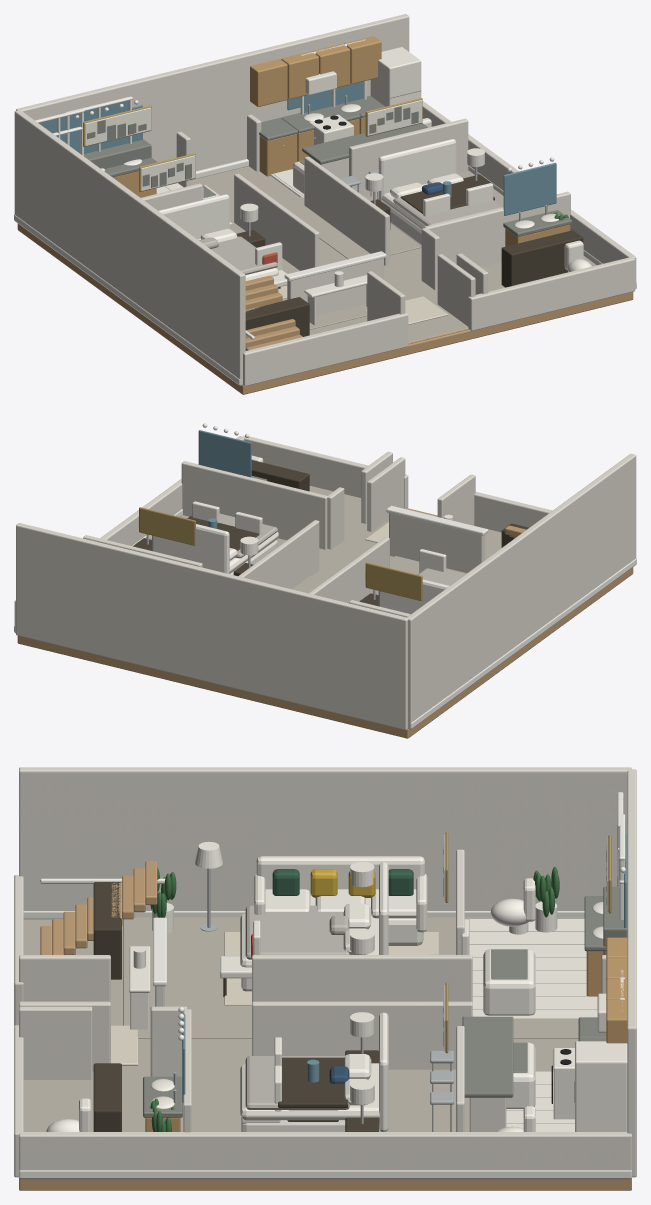
File: interior.glb
The picture shows the model from 3 angles, top to bottom: view 1: azimuth 30°, elevation 25°; view 2: azimuth 150°, elevation 25°; view 3: azimuth 270°, elevation 25°; orthographic projection. The views are drawn at different scales.
Parts seen in each view (by area): view 1: UpperFloorGeometry, GroundFloorGeometry; view 2: GroundFloorGeometry, UpperFloorGeometry; view 3: GroundFloorGeometry, UpperFloorGeometry.
Part boxes in pixels (bbox=[...]): UpperFloorGeometry: bbox=[14, 14, 636, 394]; GroundFloorGeometry: bbox=[14, 14, 636, 394]; GroundFloorGeometry: bbox=[14, 423, 636, 738]; UpperFloorGeometry: bbox=[17, 436, 636, 728]; GroundFloorGeometry: bbox=[14, 767, 636, 1190]; UpperFloorGeometry: bbox=[14, 767, 635, 1190].
Bounding box in the file's own units: 10.19 × 2.94 × 10.16.
